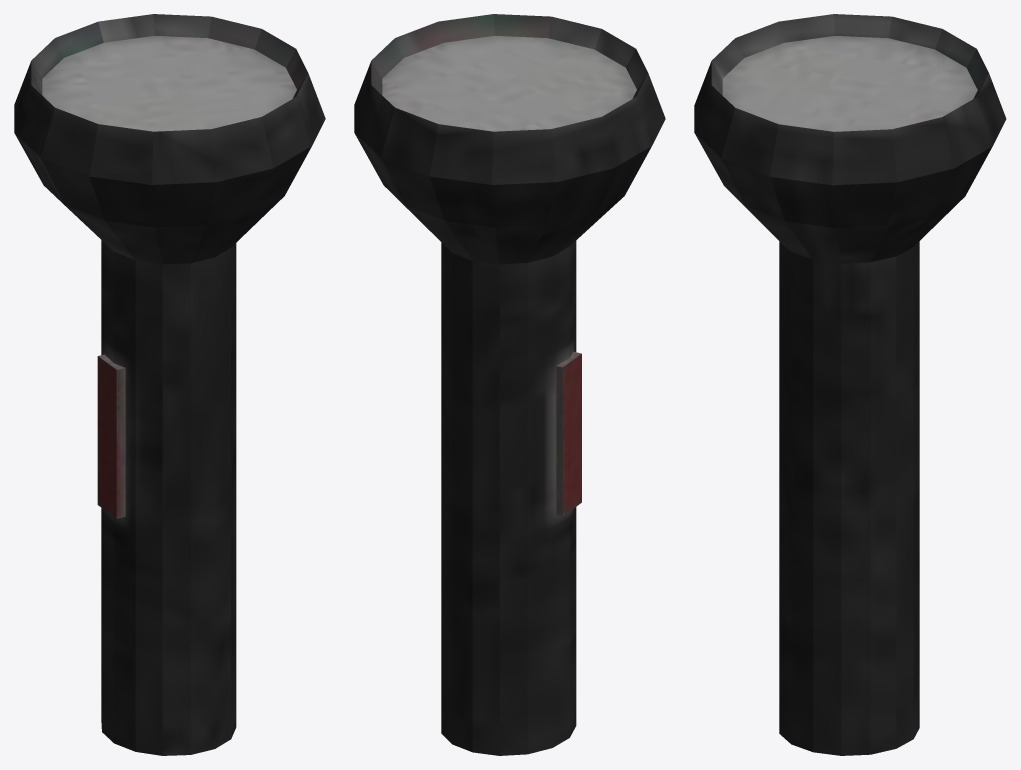
The model's file is flashlight.fbx.
3 views of the same model, side by side, from view 1: azimuth 30°, elevation 25°; view 2: azimuth 150°, elevation 25°; view 3: azimuth 270°, elevation 25° (orthographic).
Parts seen in each view (by area): view 1: flashlight; view 2: flashlight; view 3: flashlight.
Boxes of the visible parts, x1,y1,x2,y2 form: flashlight: (14, 14, 325, 755); flashlight: (354, 14, 665, 755); flashlight: (694, 14, 1006, 755).
Size of the model in its own units: 583 by 1343 by 580.
